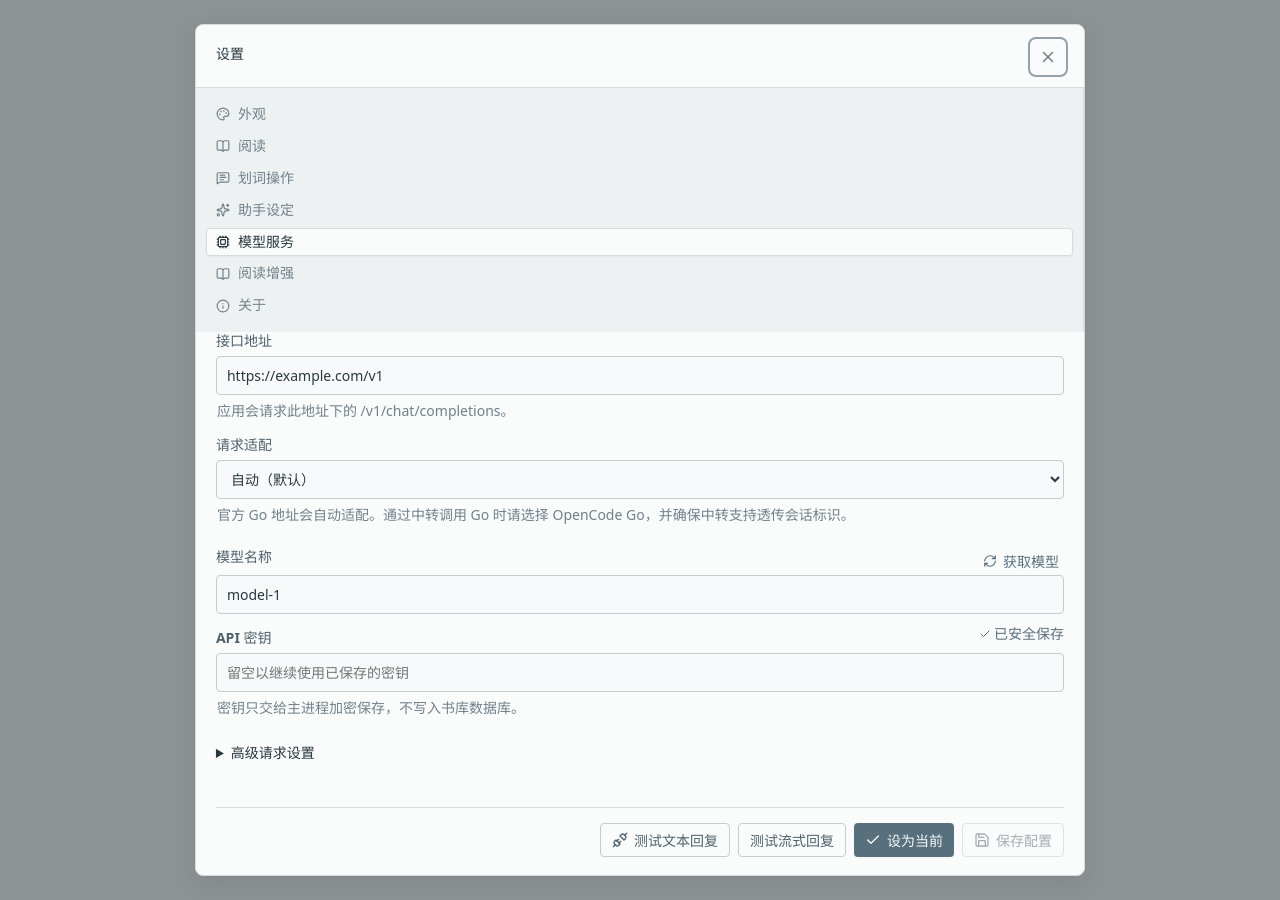
clears stale model test feedback after the endpoint changes
(page scrolled)
Step 1. Click the button with test id "provider-test" → (665, 840), box [600,823,730,857]
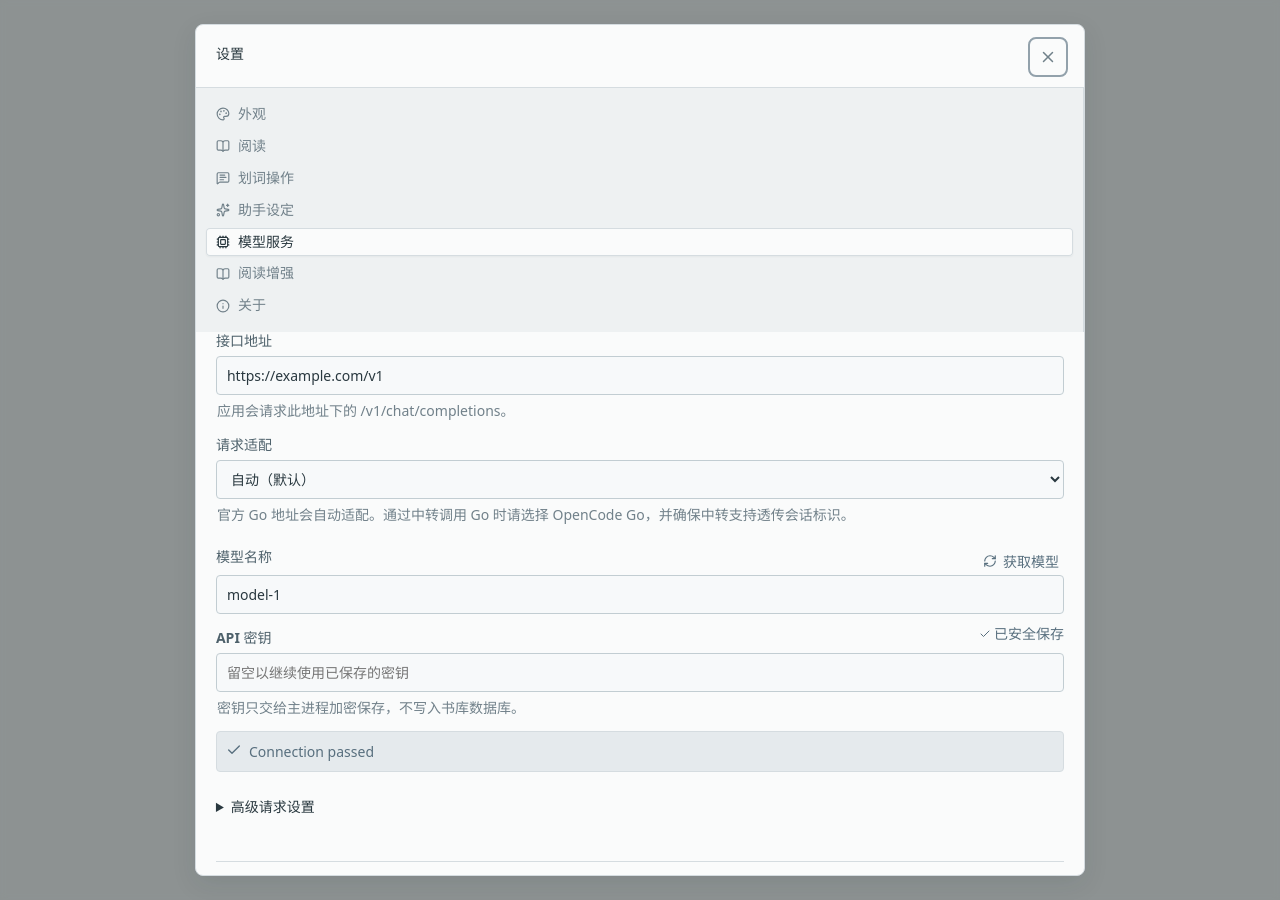
Expected: the message with test id "provider-status" reads "Connection passed", [249,742,374,761]
Step 2. Replace the text in the field with test id "provider-base-url" with "https://different.example/v1" → (640, 376), box [216,356,1064,395]
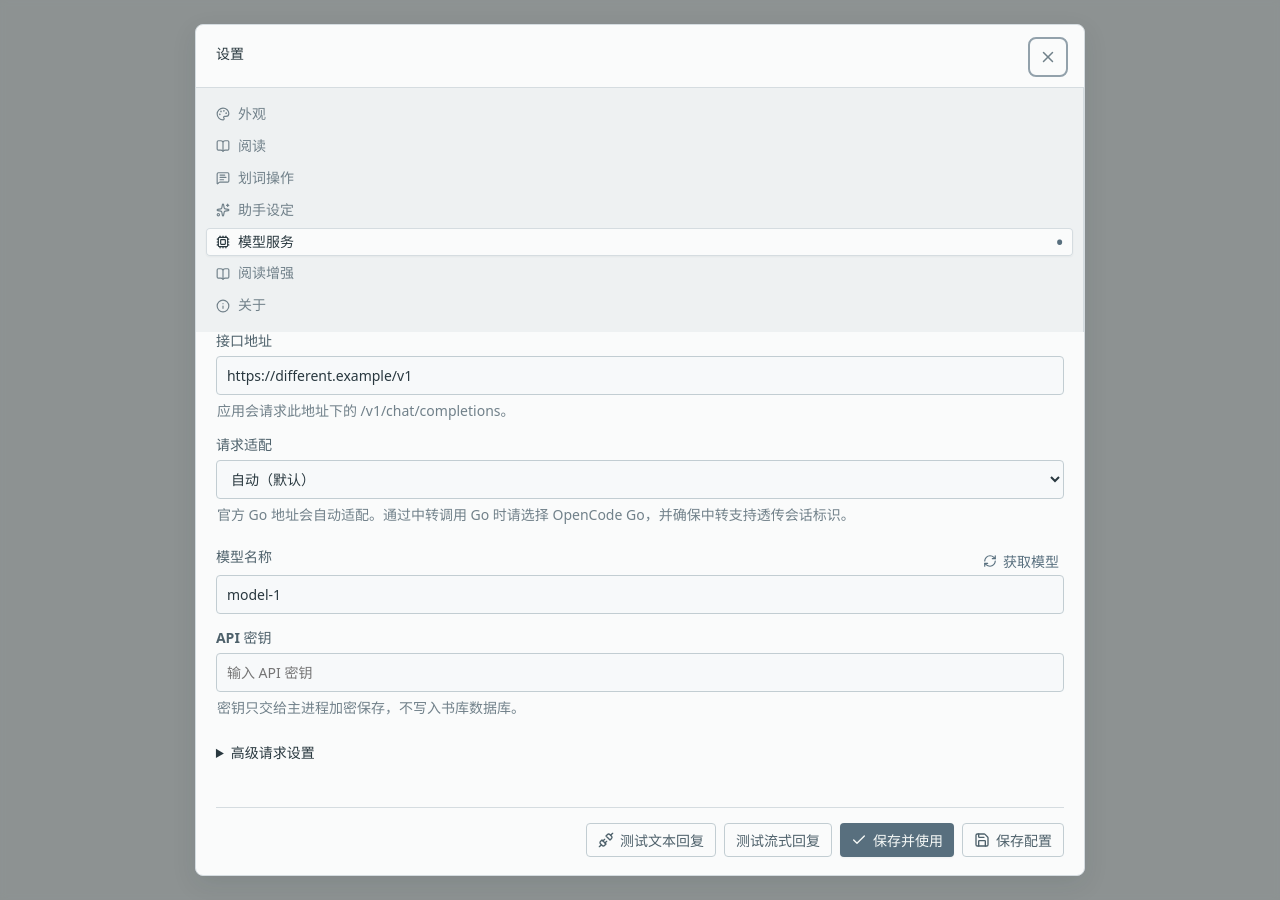
Expected: the message with test id "provider-status" is gone
